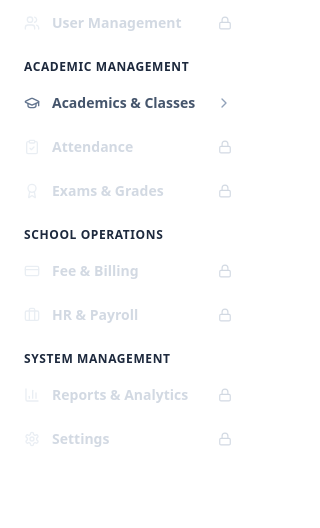
Test: AdminSidebar RBAC › enables only permitted subItems for granular academic permissions
This screenshot has width=320, height=528.
What coordinates should you click on to do the following:
click the button "Academics & Classes"
I would click on:
 (128, 103)
Its box is left=12, top=83, right=244, bottom=123.
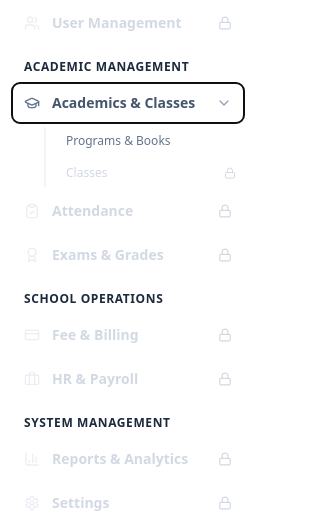
Check: the button "Programs & Books" is enabled, box left=58, top=127, right=244, bottom=155
Check: the button "Classes" is disabled, box left=58, top=159, right=244, bottom=187
